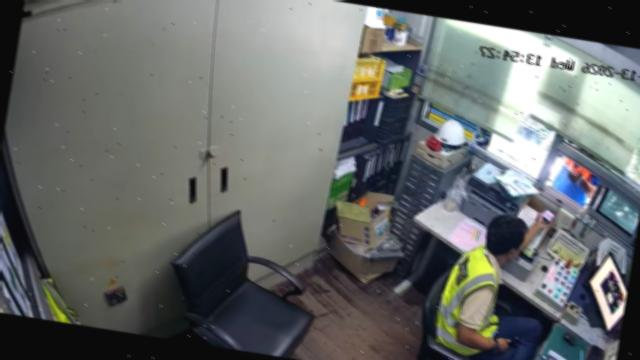Head: (484, 214, 529, 265)
People: (435, 218, 547, 359)
Phone: (537, 209, 555, 222), (545, 353, 550, 359)
